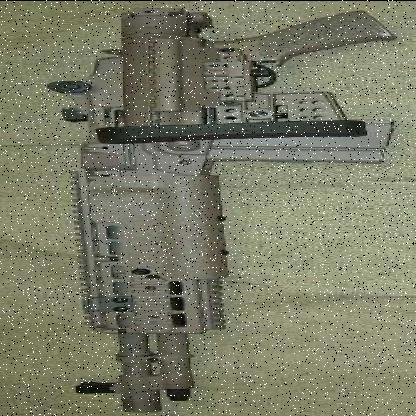rifle: (27, 0, 414, 413)
